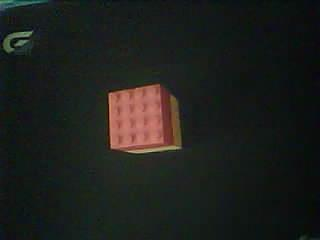lego: (108, 84, 182, 153)
